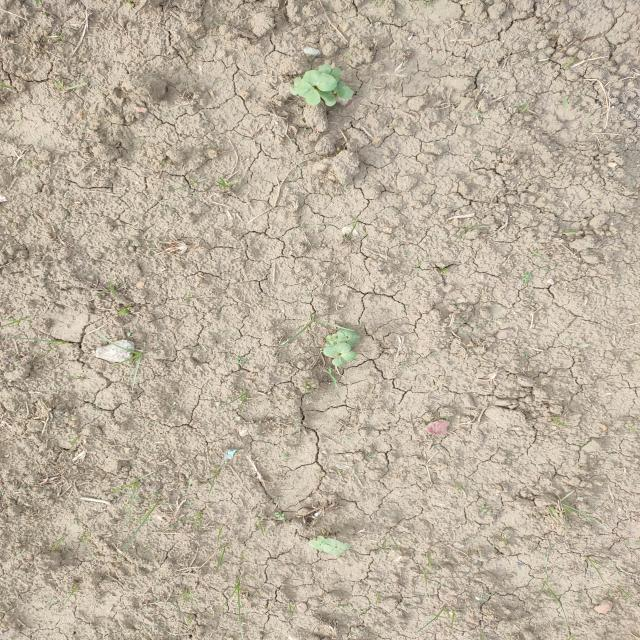seedling_s2: (302, 70, 338, 91), (296, 81, 321, 106), (323, 342, 351, 357), (332, 351, 356, 367), (316, 88, 336, 107), (334, 79, 353, 99), (325, 538, 351, 550), (346, 328, 360, 346), (323, 544, 344, 555), (330, 68, 341, 83), (309, 540, 324, 550), (337, 328, 346, 344), (318, 64, 331, 74), (317, 535, 327, 546), (326, 334, 338, 341), (326, 340, 339, 346)
